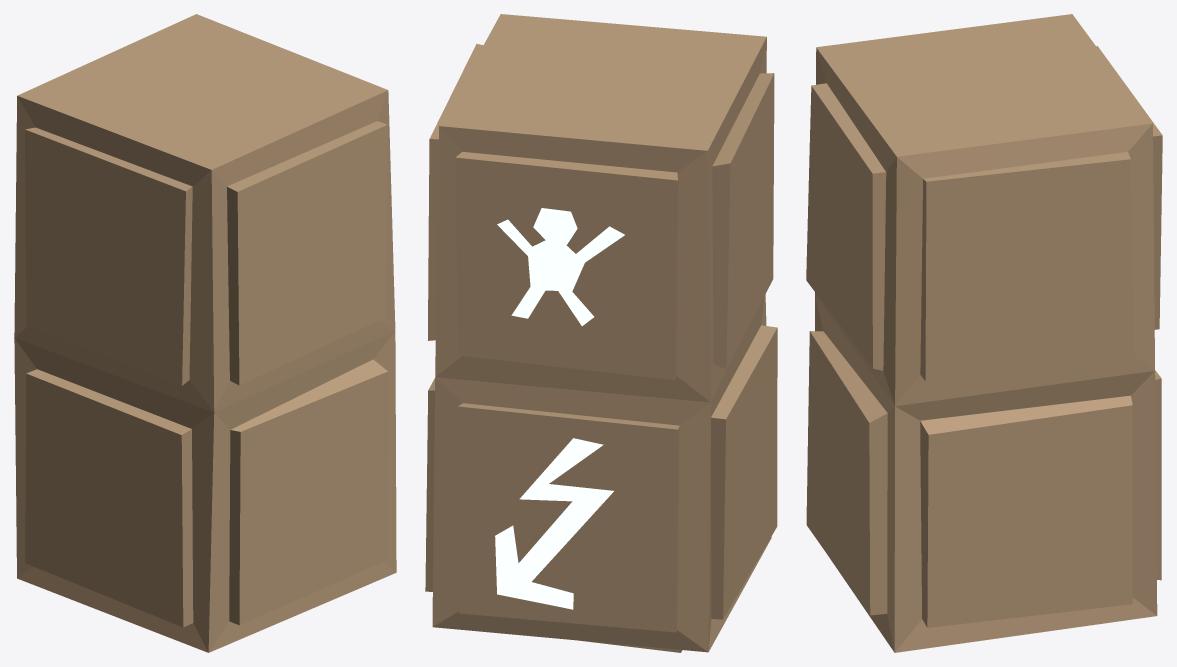
Rendered from Column2.glb.
The picture shows the model from 3 angles, left to right: view 1: azimuth 30°, elevation 25°; view 2: azimuth 150°, elevation 25°; view 3: azimuth 270°, elevation 25°; orthographic projection. The views are drawn at different scales.
Visible parts, largest first — view 1: Column2.001; view 2: Column2.001; view 3: Column2.001.
Part boxes in pixels (x1,y1,x2,y2): Column2.001: [14, 14, 396, 652]; Column2.001: [425, 14, 777, 652]; Column2.001: [806, 14, 1162, 652].
Size of the model in its own units: 2.61 by 4.13 by 2.63.
1 material, 1 textured.
